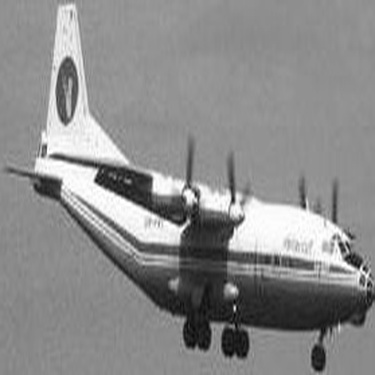airplane: (3, 3, 370, 373)
